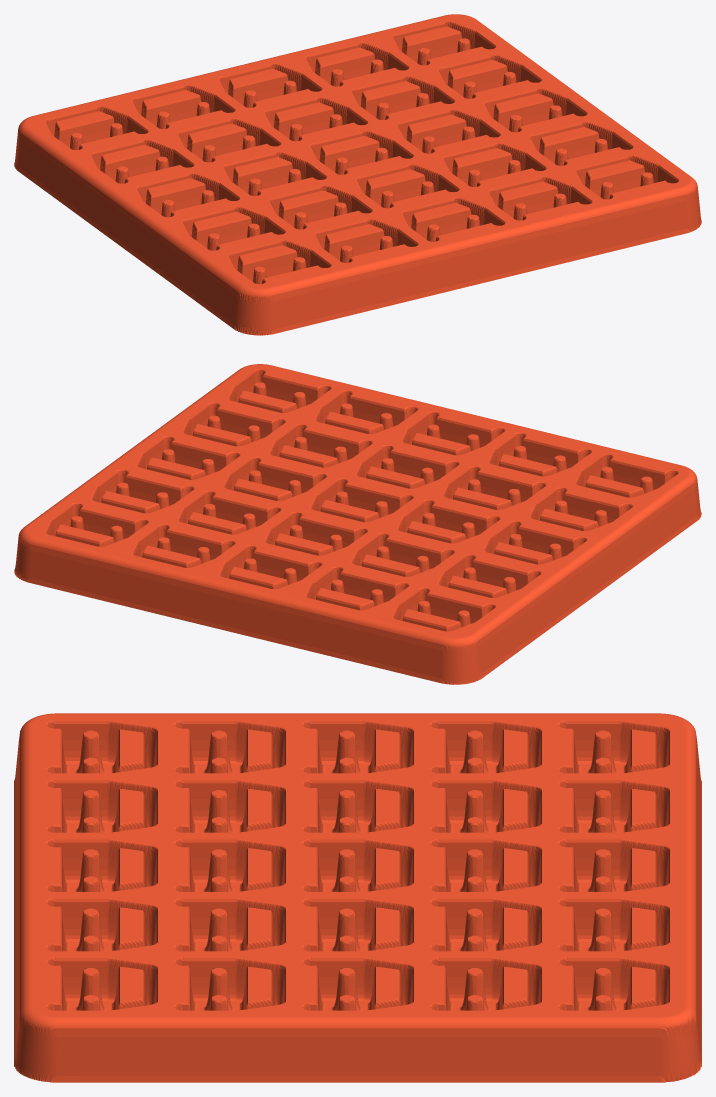
File: mold.glb
3 renders of one model, top to bottom at view 1: azimuth 30°, elevation 25°; view 2: azimuth 150°, elevation 25°; view 3: azimuth 270°, elevation 25°, orthographic. The views are drawn at different scales.
Visible parts, largest first — view 1: geometry_0; view 2: geometry_0; view 3: geometry_0.
Boxes of the visible parts, <box> form: geometry_0: <box>14,14,701,335</box>; geometry_0: <box>14,364,701,684</box>; geometry_0: <box>14,713,701,1082</box>.
Size of the model in its own units: 0.1584 by 0.0136 by 0.1454.
